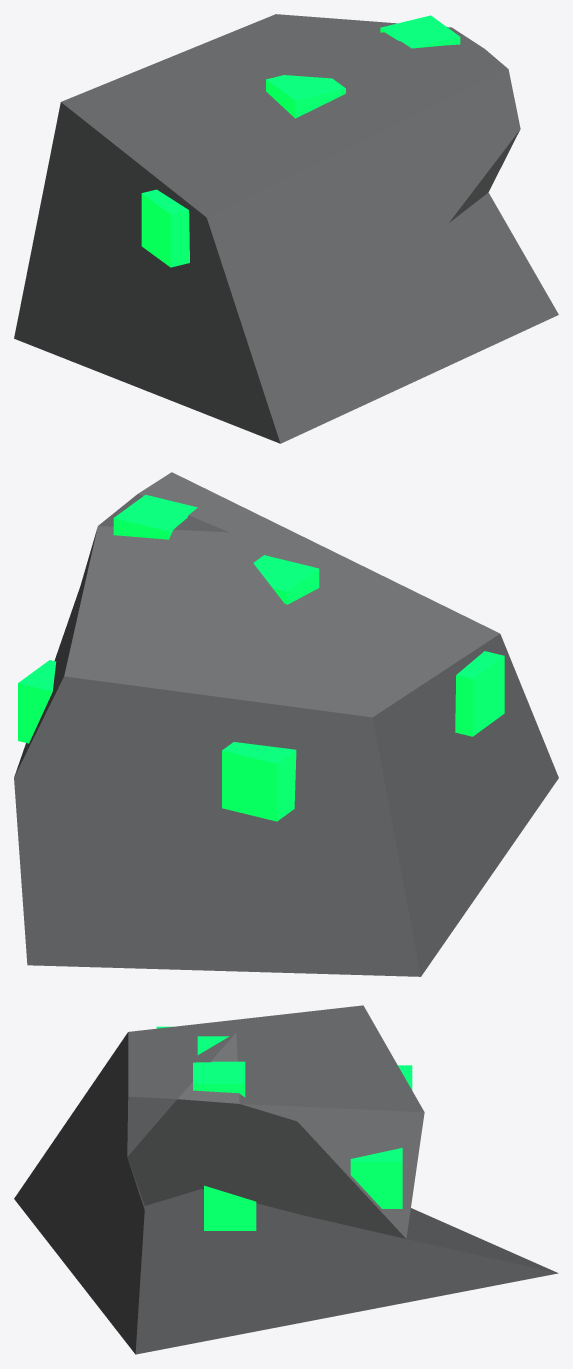
The model's file is UranOre.fbx.
3 views of the same model, one above another, from view 1: azimuth 30°, elevation 25°; view 2: azimuth 150°, elevation 25°; view 3: azimuth 270°, elevation 25° (orthographic). The views are drawn at different scales.
Visible parts, largest first — view 1: Cube, Cube.004, Cube.006, Cube.003; view 2: Cube, Cube.001, Cube.004, Cube.003, Cube.005, Cube.006; view 3: Cube, Cube.005, Cube.002, Cube.003.
Boxes of the visible parts, left/top/right/bottom form: Cube: left=14, top=14, right=558, bottom=443; Cube.004: left=141, top=189, right=189, bottom=267; Cube.006: left=266, top=75, right=345, bottom=118; Cube.003: left=380, top=15, right=460, bottom=48; Cube: left=14, top=472, right=558, bottom=976; Cube.001: left=222, top=742, right=296, bottom=821; Cube.004: left=455, top=651, right=504, bottom=736; Cube.003: left=113, top=494, right=197, bottom=539; Cube.005: left=18, top=660, right=56, bottom=743; Cube.006: left=253, top=555, right=319, bottom=604; Cube: left=14, top=1005, right=558, bottom=1354; Cube.005: left=350, top=1148, right=402, bottom=1208; Cube.002: left=204, top=1185, right=256, bottom=1230; Cube.003: left=193, top=1061, right=245, bottom=1097.
Bounding box in the file's own units: 329 × 223 × 417.
